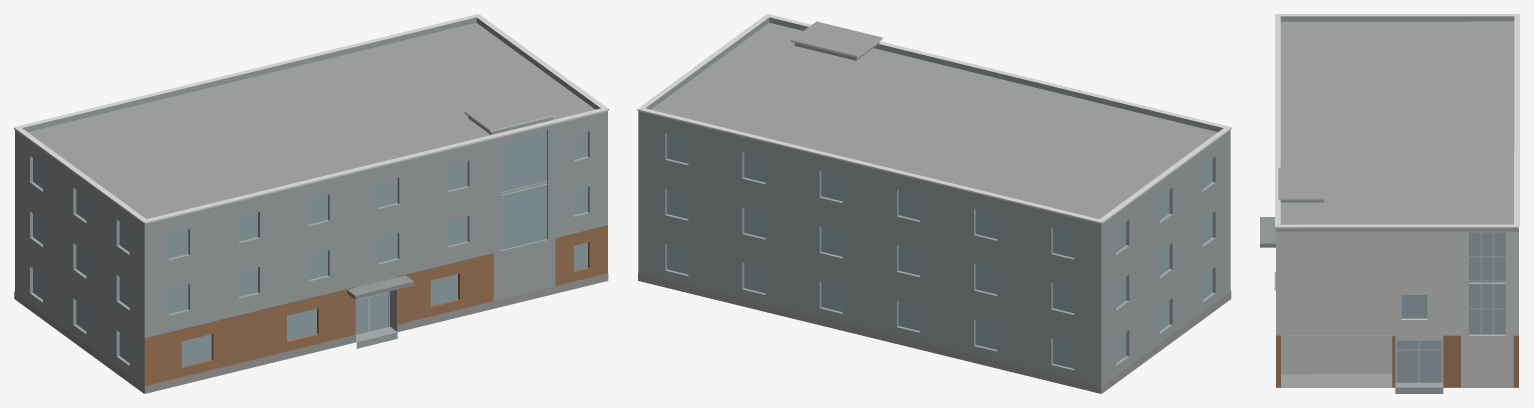
The picture shows the model from 3 angles, left to right: view 1: azimuth 30°, elevation 25°; view 2: azimuth 150°, elevation 25°; view 3: azimuth 270°, elevation 25°; orthographic projection. The views are drawn at different scales.
Visible parts, largest first — view 1: b115951817__wall, b115951817__roof, b115951817__glass, b115951817__wall2, b115951817__trim, b115951817__parapet, b115951817__base, b115951817__canopy, b115951817__entranceThreshold_1; view 2: b115951817__wall, b115951817__roof, b115951817__glass, b115951817__trim, b115951817__parapet, b115951817__base; view 3: b115951817__roof, b115951817__southUpper, b115951817__glass, b115951817__trim, b115951817__parapet, b115951817__wall2, b115951817__frame, b115951817__entranceThreshold_0, b115951817__canopy.
Part boxes in pixels (box(x1,y1,x2,y2)): b115951817__wall: box(15, 114, 607, 393); b115951817__roof: box(28, 22, 594, 393); b115951817__glass: box(33, 130, 587, 366); b115951817__wall2: box(144, 225, 607, 393); b115951817__trim: box(14, 14, 608, 223); b115951817__parapet: box(15, 17, 607, 227); b115951817__base: box(14, 273, 608, 393); b115951817__canopy: box(347, 275, 414, 299); b115951817__entranceThreshold_1: box(356, 327, 397, 348); b115951817__wall: box(638, 42, 1230, 393); b115951817__roof: box(651, 21, 1217, 393); b115951817__glass: box(667, 134, 1212, 368); b115951817__trim: box(637, 14, 1231, 223); b115951817__parapet: box(638, 17, 1230, 227); b115951817__base: box(638, 273, 1231, 393); b115951817__roof: box(1276, 21, 1518, 387); b115951817__southUpper: box(1276, 231, 1518, 387); b115951817__glass: box(1397, 232, 1505, 382); b115951817__trim: box(1275, 14, 1519, 228); b115951817__parapet: box(1276, 16, 1518, 231); b115951817__wall2: box(1276, 335, 1518, 387); b115951817__frame: box(1397, 232, 1505, 382); b115951817__entranceThreshold_0: box(1395, 382, 1443, 393); b115951817__canopy: box(1260, 217, 1275, 247).
Bounding box in the file's own units: 31.67 × 11.95 × 16.32.
